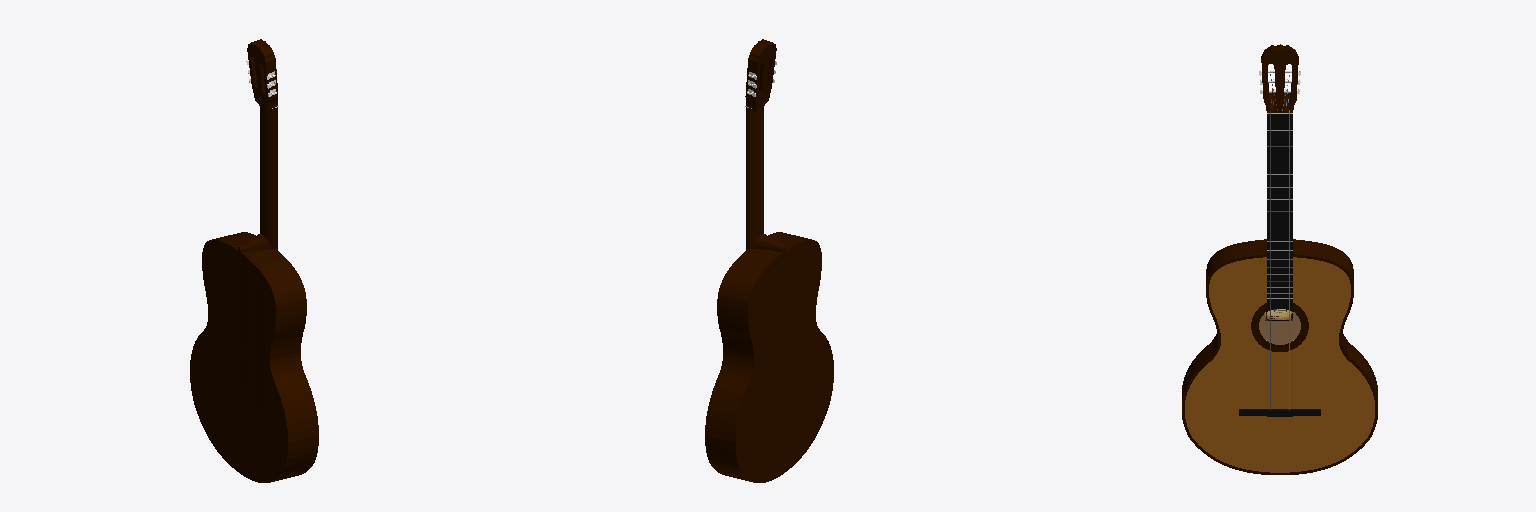
The picture shows the model from 3 angles: view 1: azimuth 30°, elevation 25°; view 2: azimuth 150°, elevation 25°; view 3: azimuth 270°, elevation 25°; orthographic projection.
Parts seen in each view (by area): view 1: mesh13-geometry-1; view 2: mesh13-geometry-1; view 3: mesh13-geometry-3, mesh13-geometry-1, mesh13-geometry-5, mesh13-geometry-0.
Part boxes in pixels (bbox=[...]): mesh13-geometry-1: bbox=[190, 39, 318, 482]; mesh13-geometry-1: bbox=[705, 39, 833, 482]; mesh13-geometry-3: bbox=[1185, 257, 1374, 472]; mesh13-geometry-1: bbox=[1182, 44, 1377, 474]; mesh13-geometry-5: bbox=[1239, 114, 1320, 416]; mesh13-geometry-0: bbox=[1259, 312, 1300, 344].
Size of the model in its own units: 0.0765 by 0.9194 by 0.3859.
13 materials, 1 textured.